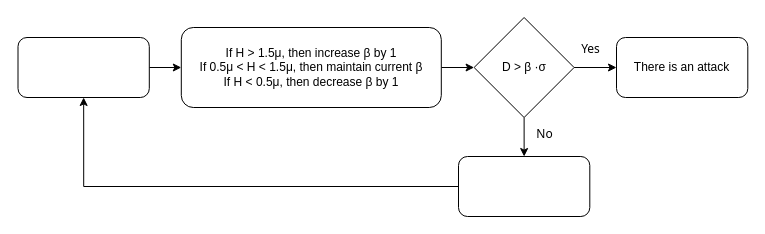
Image size: 765x234. Some labels were removed from this diagram. Each missing label, with the box of its shape:
Calculate μ Calculate σ Calculate D = | μ - H |: (17, 36, 149, 98)
Update β: (458, 156, 590, 216)
